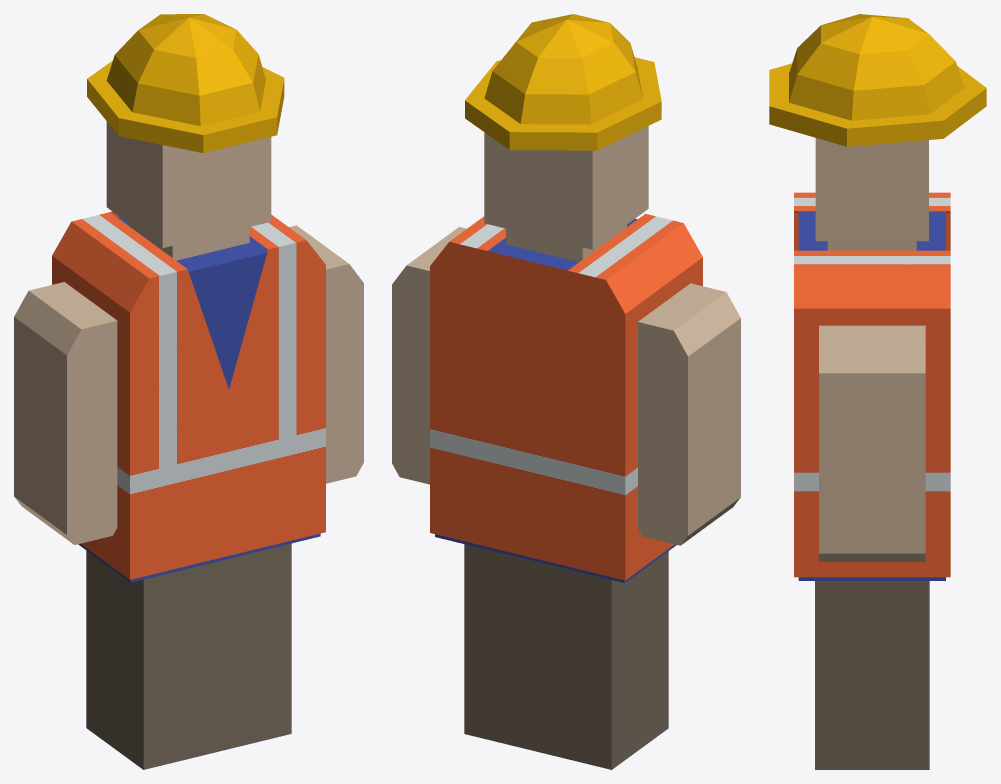
File: ConstructionWorker.fbx
3 views of the same model, side by side, from view 1: azimuth 30°, elevation 25°; view 2: azimuth 150°, elevation 25°; view 3: azimuth 270°, elevation 25° (orthographic).
Parts seen in each view (by area): view 1: Mens, Clothes; view 2: Clothes, Mens; view 3: Mens, Clothes.
Part boxes in pixels (x1,y1,x2,y2): Mens: (14,121,363,769); Clothes: (52,14,325,579); Clothes: (430,14,702,580); Mens: (392,126,740,769); Mens: (798,138,945,769); Clothes: (769,14,986,577).
Size of the model in its own units: 81.85 by 188 by 51.7.
